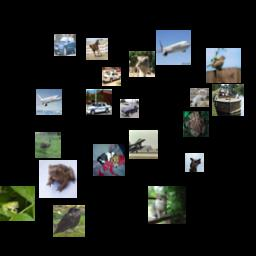airplane: (156, 30, 191, 65), (129, 130, 158, 159), (36, 89, 62, 115)
automobile: (86, 89, 112, 115), (54, 34, 76, 56), (102, 67, 121, 86), (120, 99, 139, 118)
bird: (206, 48, 241, 83), (53, 205, 85, 237), (129, 51, 155, 77), (35, 132, 61, 158)
cat: (148, 186, 186, 224)
dog: (93, 144, 125, 176), (185, 153, 204, 172), (190, 88, 209, 107)
frog: (39, 160, 77, 198), (0, 186, 35, 221), (183, 111, 209, 137)
ship: (212, 84, 244, 116)
